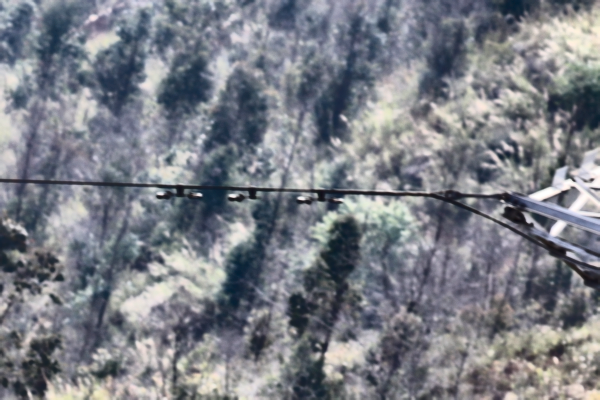damper: (294, 185, 346, 205), (153, 181, 204, 200)
damper_defect: (225, 184, 264, 203)
